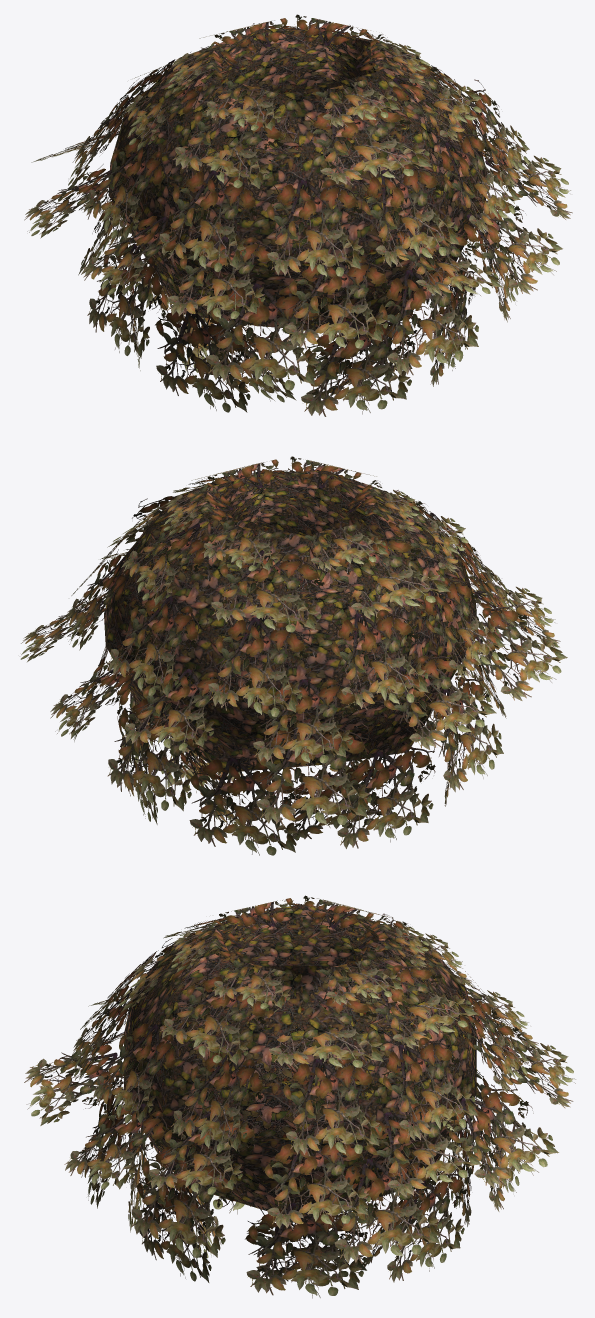
File: poi_all_lair_leaf_large_l1.fbx
3 renders of one model, top to bottom at view 1: azimuth 30°, elevation 25°; view 2: azimuth 150°, elevation 25°; view 3: azimuth 270°, elevation 25°, orthographic.
Visible parts, largest first — view 1: mesh_node; view 2: mesh_node; view 3: mesh_node.
Boxes of the visible parts, left/top/right/bottom form: mesh_node: left=24, top=14, right=572, bottom=416; mesh_node: left=20, top=456, right=567, bottom=855; mesh_node: left=24, top=895, right=575, bottom=1298.
Bounding box in the file's own units: 5.04 × 3.24 × 5.1.
Materials: 2 (2 with a texture image).
